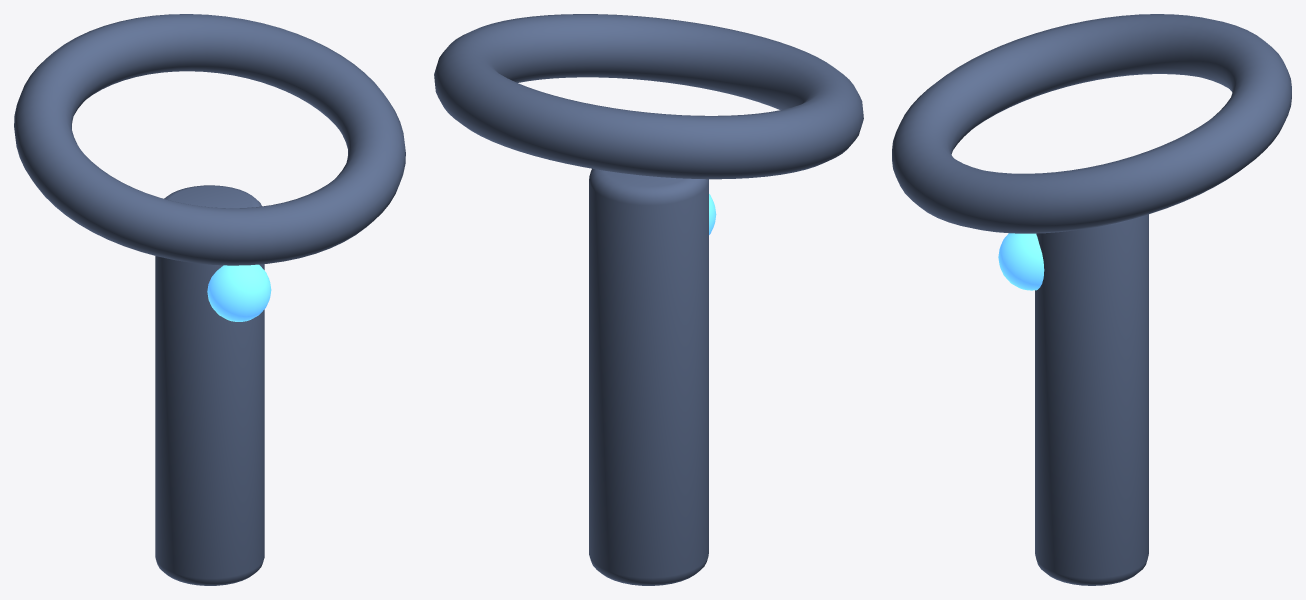
Rendered from controller.glb.
The picture shows the model from 3 angles, left to right: view 1: azimuth 30°, elevation 25°; view 2: azimuth 150°, elevation 25°; view 3: azimuth 270°, elevation 25°; orthographic projection. The views are drawn at different scales.
Visible parts, largest first — view 1: Ring, Grip, Stick; view 2: Ring, Grip; view 3: Ring, Grip, Stick.
Boxes of the visible parts, x1,y1,x2,y2 form: Ring: [14, 14, 405, 265]; Grip: [155, 185, 264, 585]; Stick: [207, 264, 271, 321]; Ring: [434, 14, 863, 179]; Grip: [589, 168, 708, 585]; Ring: [892, 14, 1291, 233]; Grip: [1035, 214, 1148, 585]; Stick: [998, 233, 1044, 290].
Bounding box in the file's own units: 0.61 × 0.8258 × 0.598.
